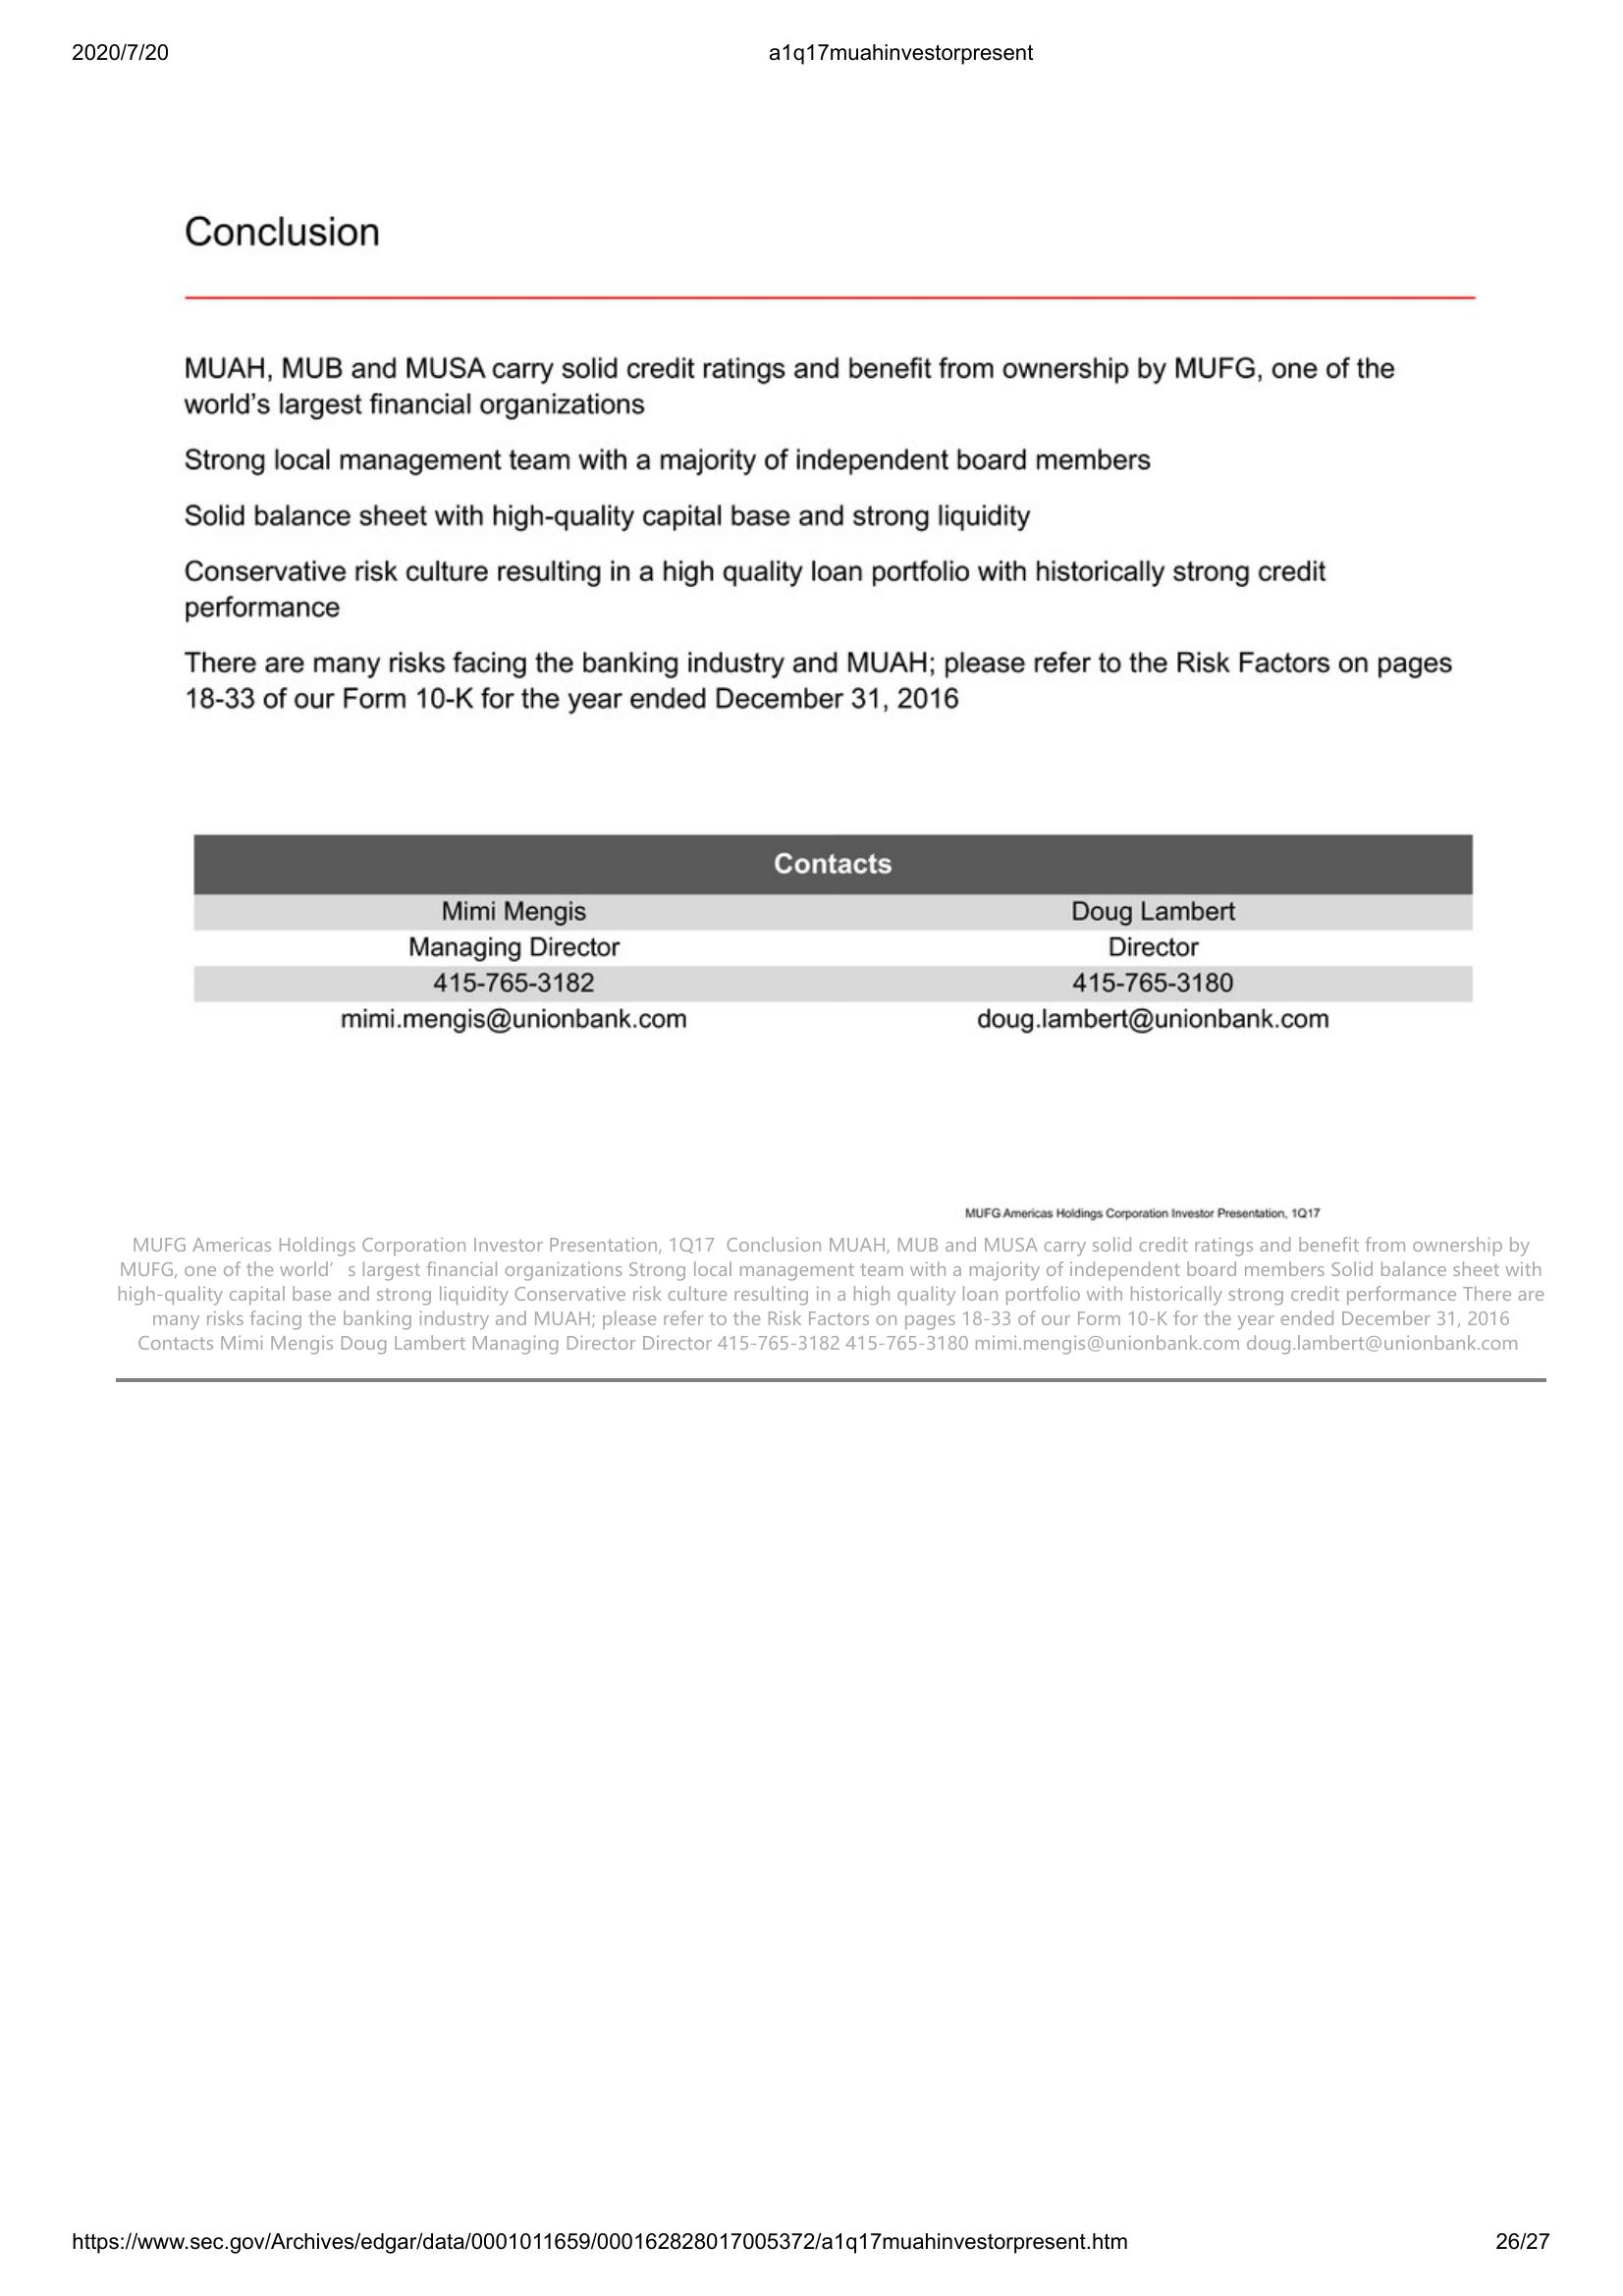table: (184, 830, 1475, 1034)
